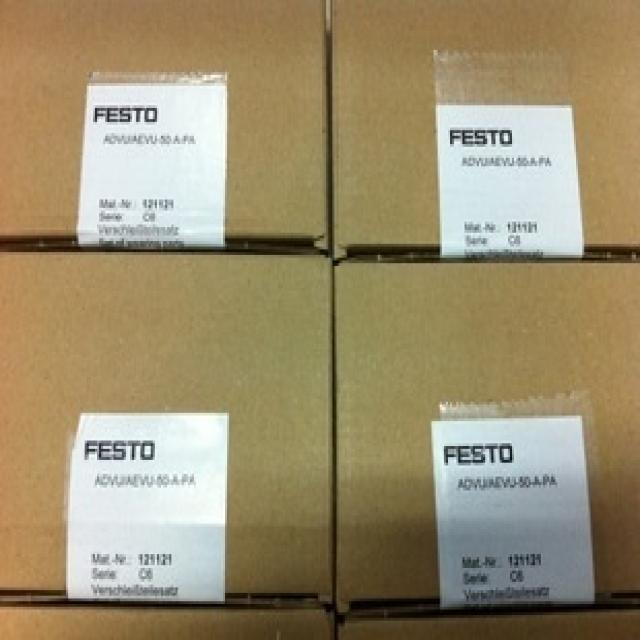box: (0, 252, 333, 610), (335, 260, 638, 617), (0, 1, 327, 253), (327, 0, 638, 259), (0, 604, 334, 637), (335, 610, 638, 637)
